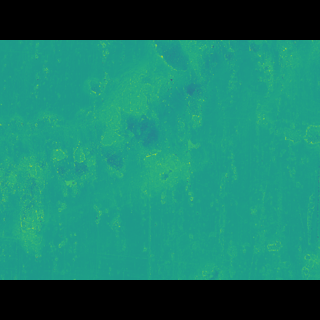Loch: (0, 69, 320, 216)
